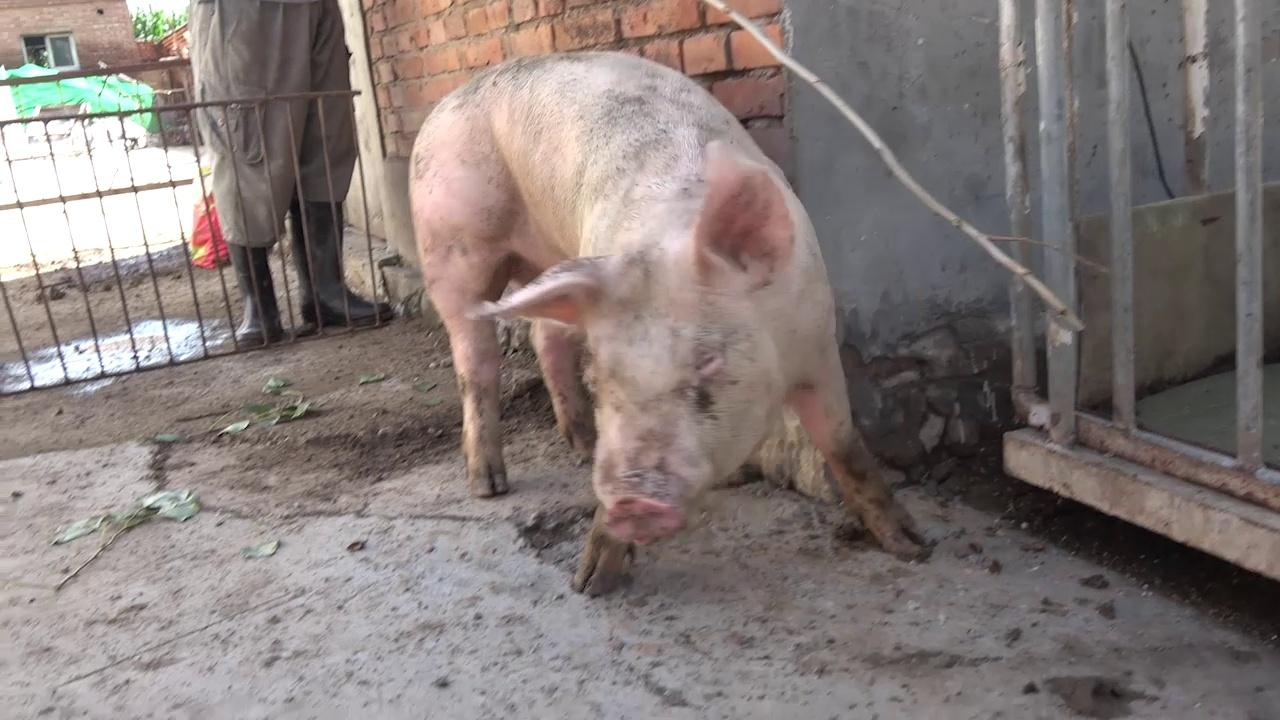Face: (482, 137, 813, 553)
